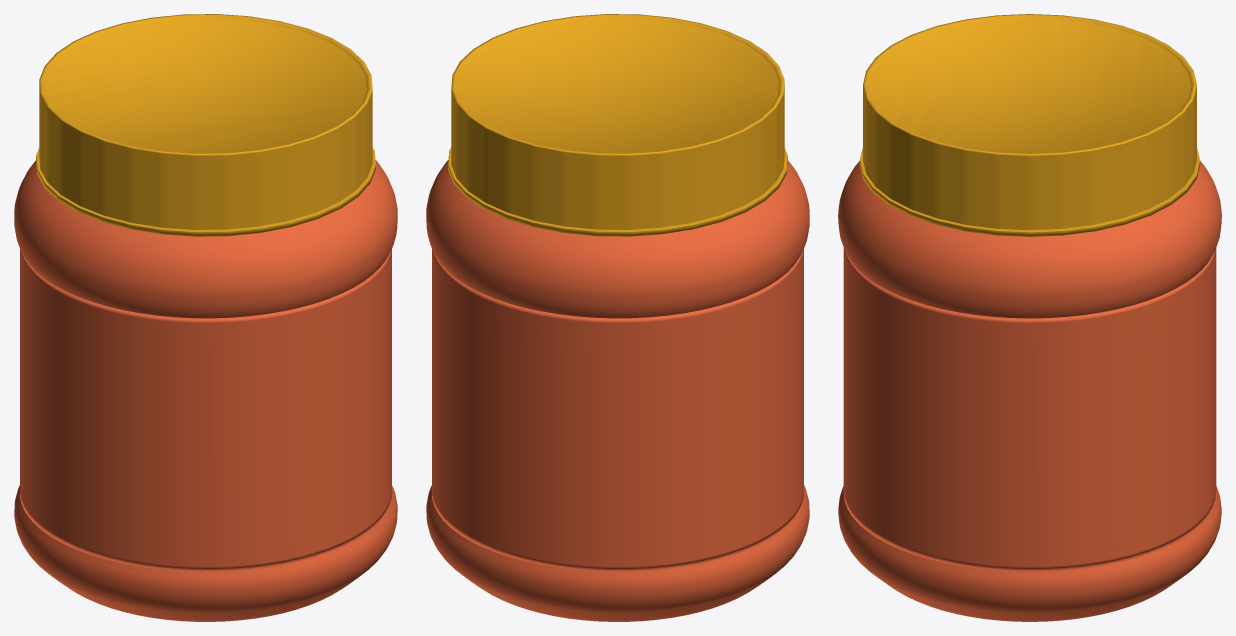
The picture shows the model from 3 angles, left to right: view 1: azimuth 30°, elevation 25°; view 2: azimuth 150°, elevation 25°; view 3: azimuth 270°, elevation 25°; orthographic projection.
Visible parts, largest first — view 1: base, cap; view 2: base, cap; view 3: base, cap.
Part boxes in pixels (bbox=[...]): base: bbox=[14, 160, 397, 621]; cap: bbox=[36, 14, 375, 236]; base: bbox=[426, 160, 809, 621]; cap: bbox=[448, 14, 787, 236]; base: bbox=[838, 161, 1221, 621]; cap: bbox=[859, 14, 1200, 236].
Size of the model in its own units: 0.0761 by 0.1041 by 0.0761.
